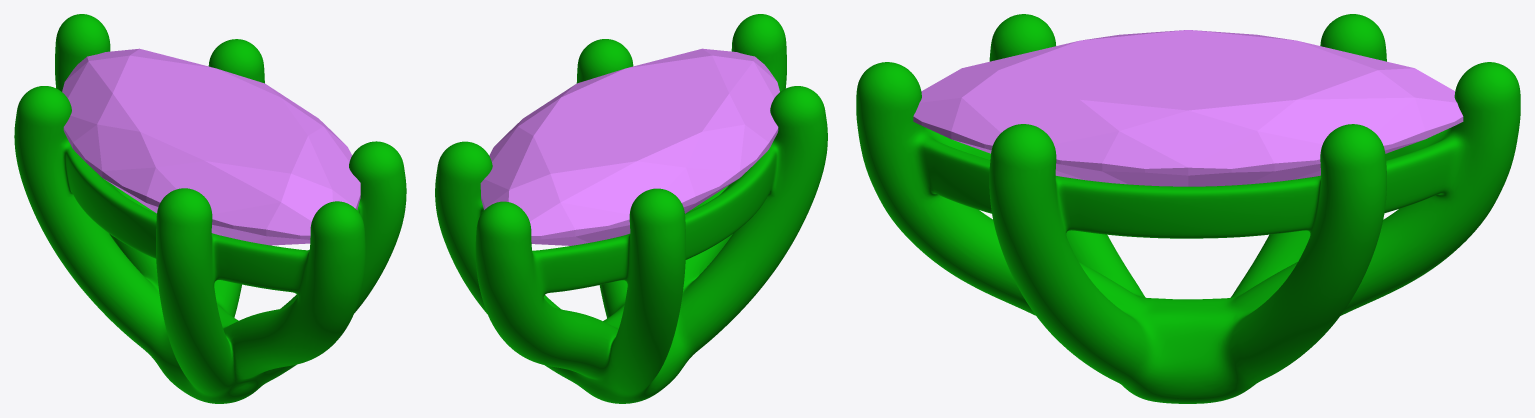
The picture shows the model from 3 angles, left to right: view 1: azimuth 30°, elevation 25°; view 2: azimuth 150°, elevation 25°; view 3: azimuth 270°, elevation 25°; orthographic projection. The views are drawn at different scales.
Parts seen in each view (by area): view 1: Metal01, Diamond_Marquise; view 2: Metal01, Diamond_Marquise; view 3: Metal01, Diamond_Marquise.
Part boxes in pixels (bbox=[...]): Metal01: bbox=[14, 14, 406, 403]; Diamond_Marquise: bbox=[62, 48, 360, 245]; Metal01: bbox=[435, 14, 827, 403]; Diamond_Marquise: bbox=[480, 48, 779, 245]; Metal01: bbox=[856, 14, 1520, 403]; Diamond_Marquise: bbox=[913, 30, 1463, 186].
Bounding box in the file's own units: 4.67 × 5.16 × 9.39.
